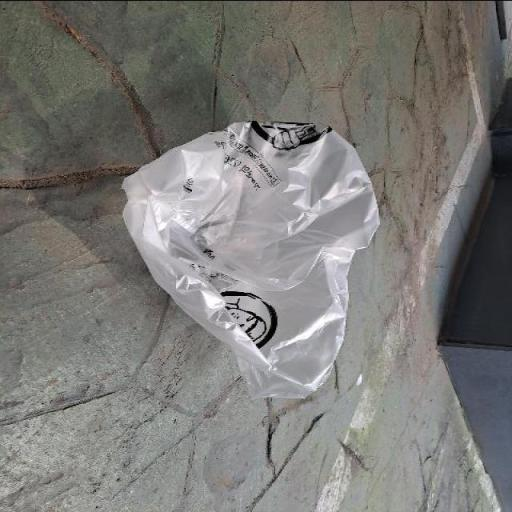plastic-bag: (113, 120, 376, 404)
